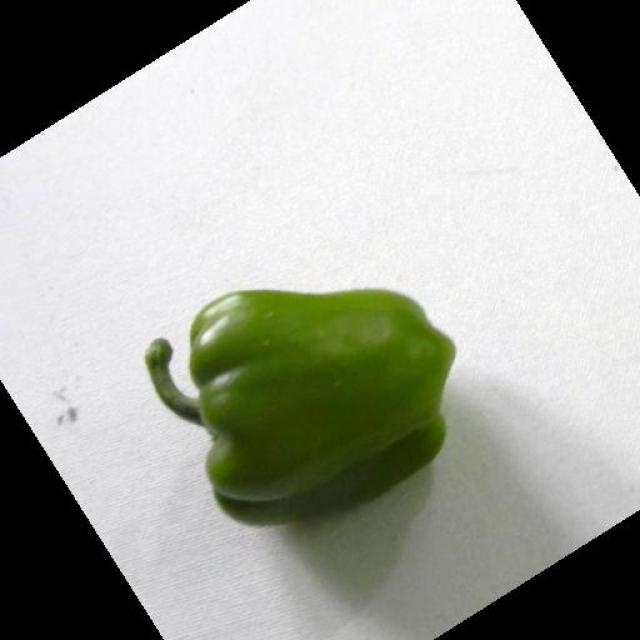Fresh_Capsicum: (127, 286, 468, 480)
